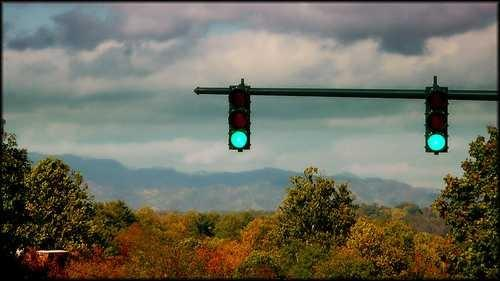green: (426, 86, 450, 152), (229, 82, 251, 151), (425, 132, 448, 151), (230, 130, 249, 148)
